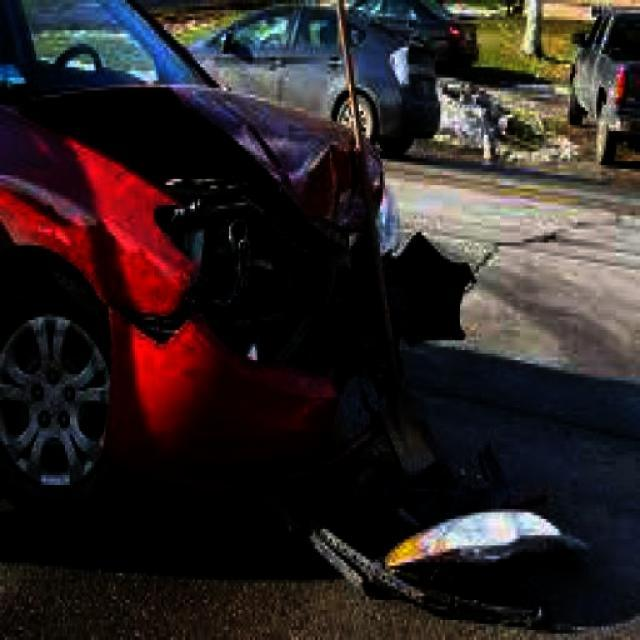car damage: (9, 86, 401, 494)
